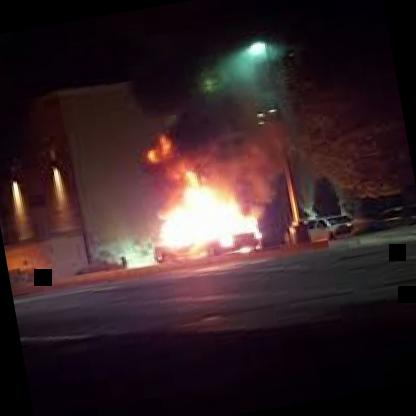fire: (124, 102, 298, 293)
